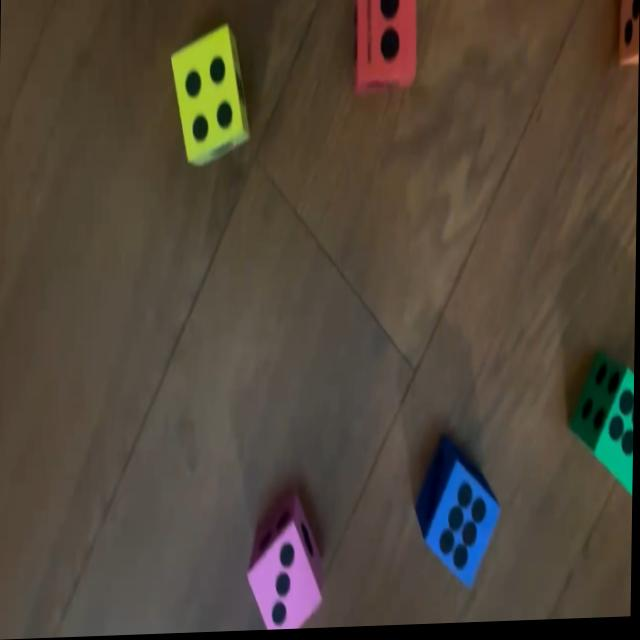cube: (416, 442, 501, 595), (567, 356, 636, 502), (351, 0, 419, 101)
